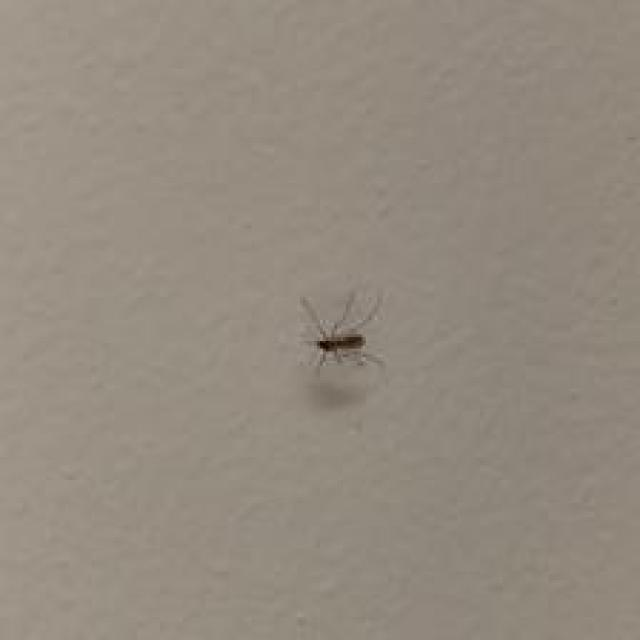Culex: (297, 289, 386, 374)
